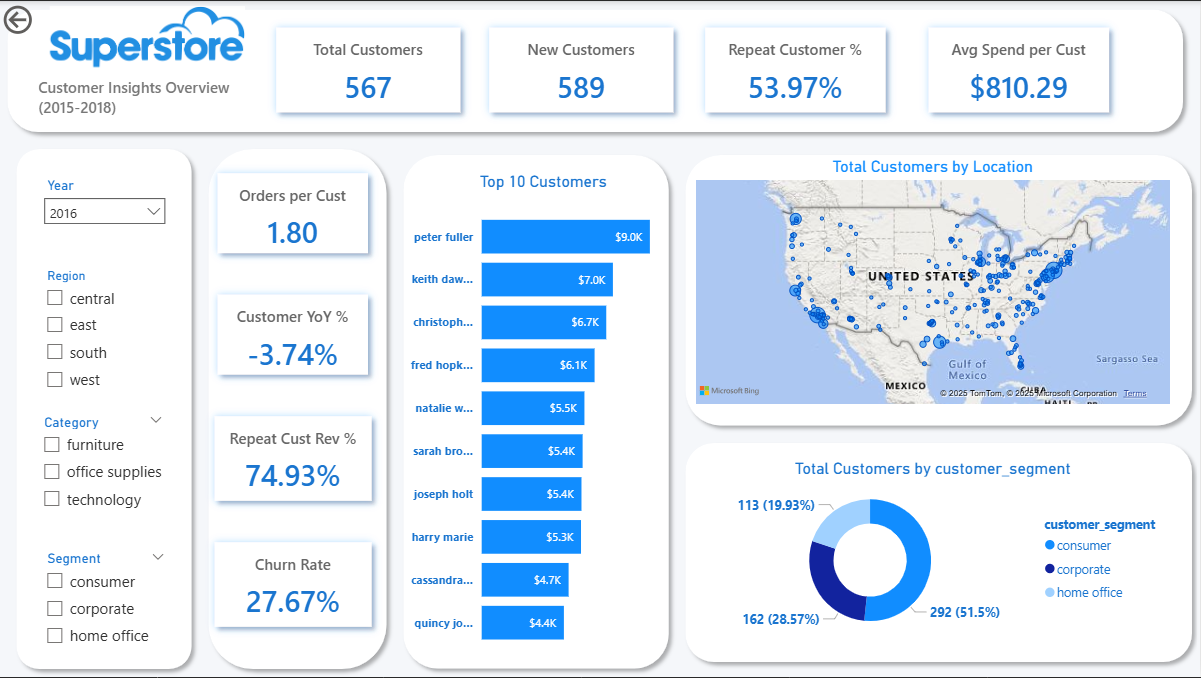

The page's visual inventory and layout, read from the dashboard file:
{"tool":"powerbi","page":{"name":"Customer Insights","canvas":[1280,720],"ordinal":2},"visuals":[{"type":"shape","box":[721.9,461.1,557.5,251.3],"z":0},{"type":"shape","box":[721.9,155,557.5,306.1],"z":1000},{"type":"shape","box":[421.4,155,300.5,565],"z":2000},{"type":"shape","box":[214.1,148.6,207.7,572],"z":3000},{"type":"shape","box":[0,0,1270.1,148.6],"z":4000},{"type":"image","title":"Executive Dashboard","box":[36.8,0,242.8,75.4],"z":5000},{"type":"textbox","box":[36.8,75.4,242.8,60.3],"z":6000},{"type":"cardVisual","fields":{"Data":["Measure.Repeat Customer %"]},"box":[734.9,11.2,226.9,124.6],"z":7000},{"type":"cardVisual","fields":{"Data":["Measure.Avg Spend per Customer"]},"box":[973,11.2,226.9,124.6],"z":8000},{"type":"shape","box":[9.6,148,204.5,572],"z":9000},{"type":"slicer","fields":{"Values":["Calendar.Year"]},"box":[39.1,182.1,148.6,87.9],"z":10000},{"type":"slicer","fields":{"Values":["region_info.region"]},"box":[38.3,279.6,150.2,156.6],"z":11000},{"type":"slicer","fields":{"Values":["customer_info.customer_segment"]},"box":[38.3,580,150.2,118.2],"z":12000},{"type":"cardVisual","fields":{"Data":["Measure.New Customers"]},"box":[504.9,11.2,230.1,124.6],"z":13000},{"type":"cardVisual","fields":{"Data":["Measure.Repeat Revenue %"]},"box":[212.5,425,201.3,124.6],"z":14000},{"type":"cardVisual","fields":{"Data":["Measure.Customer YoY %"]},"box":[215.7,295.6,194.9,119.8],"z":15000},{"type":"cardVisual","fields":{"Data":["Measure.Churn Rate"]},"box":[212.5,559.2,201.3,124.6],"z":16000},{"type":"cardVisual","fields":{"Data":["Measure.Orders per Customer"]},"box":[215.7,166.2,194.9,119.8],"z":17000},{"type":"donutChart","fields":{"Category":["customer_info.customer_segment"],"Y":["Measure.Total Customers"]},"box":[737,487.6,515.9,196.5],"z":18000},{"type":"clusteredBarChart","title":"Top 10 Customers","fields":{"Category":["customer_info.customer_name"],"Y":["Measure.Total Sales"]},"box":[421.4,181.4,315.6,521.6],"z":19000},{"type":"actionButton","box":[0,0,100,40],"z":20000},{"type":"slicer","fields":{"Values":["product_info.product_category"]},"box":[35.9,434.6,151.2,124.7],"z":21000},{"type":"cardVisual","fields":{"Data":["Measure.Total Customers"]},"box":[277.8,11.3,230.6,124.7],"z":22000},{"type":"map","title":"Total Customers by Location","fields":{"Category":["region_info.Location_CityStateCountry"],"Size":["Measure.Total Customers"]},"box":[737,166.3,515.9,268.3],"z":23000}]}

Visuals, with their boxes in screenshot pixels (x1, y1, x2, y2), scaled from the page's 1280x720 canvas onto the 1201x678 screenshot:
shape: [left=677, top=434, right=1200, bottom=671]
shape: [left=677, top=146, right=1200, bottom=434]
shape: [left=395, top=146, right=677, bottom=677]
shape: [left=201, top=140, right=396, bottom=677]
shape: [left=0, top=0, right=1192, bottom=140]
"Executive Dashboard" image: [left=35, top=0, right=262, bottom=71]
textbox: [left=35, top=71, right=262, bottom=128]
cardVisual - Measure.Repeat Customer %: [left=690, top=11, right=902, bottom=128]
cardVisual - Measure.Avg Spend per Customer: [left=913, top=11, right=1126, bottom=128]
shape: [left=9, top=139, right=201, bottom=677]
slicer - Calendar.Year: [left=37, top=171, right=176, bottom=254]
slicer - region_info.region: [left=36, top=263, right=177, bottom=411]
slicer - customer_info.customer_segment: [left=36, top=546, right=177, bottom=657]
cardVisual - Measure.New Customers: [left=474, top=11, right=690, bottom=128]
cardVisual - Measure.Repeat Revenue %: [left=199, top=400, right=388, bottom=518]
cardVisual - Measure.Customer YoY %: [left=202, top=278, right=385, bottom=391]
cardVisual - Measure.Churn Rate: [left=199, top=527, right=388, bottom=644]
cardVisual - Measure.Orders per Customer: [left=202, top=157, right=385, bottom=269]
donutChart - customer_info.customer_segment x Measure.Total Customers: [left=692, top=459, right=1176, bottom=644]
"Top 10 Customers" clusteredBarChart: [left=395, top=171, right=692, bottom=662]
actionButton: [left=0, top=0, right=94, bottom=38]
slicer - product_info.product_category: [left=34, top=409, right=176, bottom=527]
cardVisual - Measure.Total Customers: [left=261, top=11, right=477, bottom=128]
"Total Customers by Location" map: [left=692, top=157, right=1176, bottom=409]
